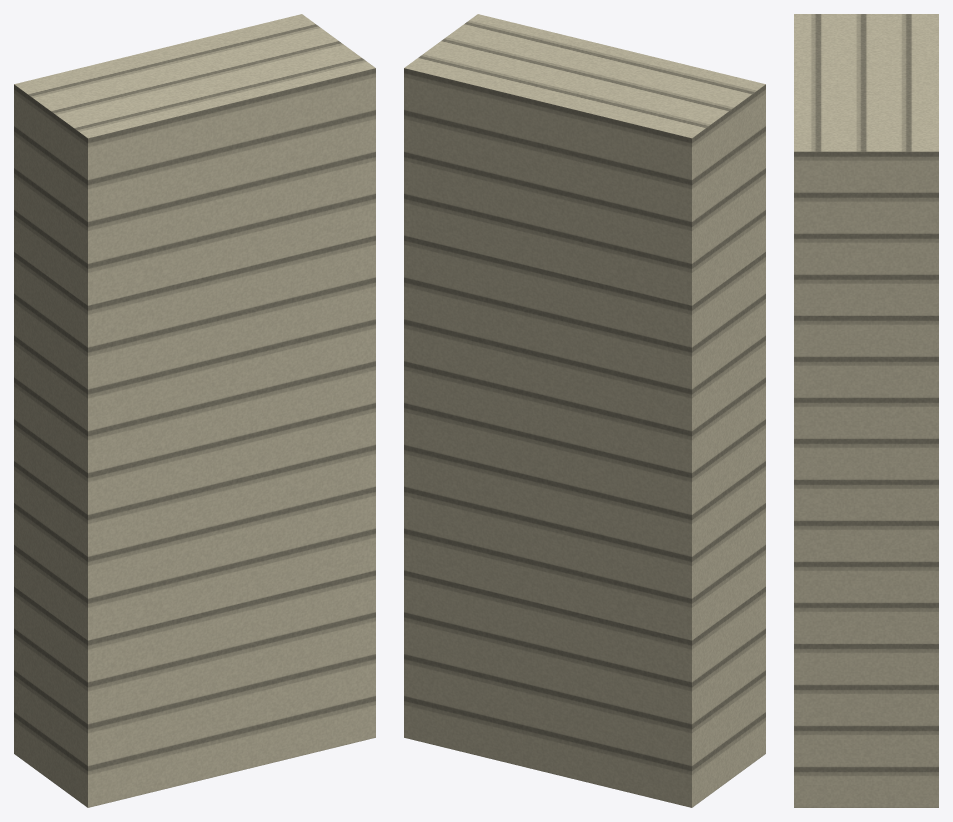
The model's file is pantry_cabinet_shelving.glb.
3 renders of one model, left to right at view 1: azimuth 30°, elevation 25°; view 2: azimuth 150°, elevation 25°; view 3: azimuth 270°, elevation 25°, orthographic. The views are drawn at different scales.
Parts seen in each view (by area): view 1: pantry_cabinet_shelving-col; view 2: pantry_cabinet_shelving-col; view 3: pantry_cabinet_shelving-col.
Part boxes in pixels (box(x1,y1,x2,y2)): pantry_cabinet_shelving-col: box(14, 14, 375, 807); pantry_cabinet_shelving-col: box(404, 14, 765, 807); pantry_cabinet_shelving-col: box(794, 14, 938, 807).
Bounding box in the file's own units: 0.9 × 2 × 0.4.
1 material, 1 textured.
